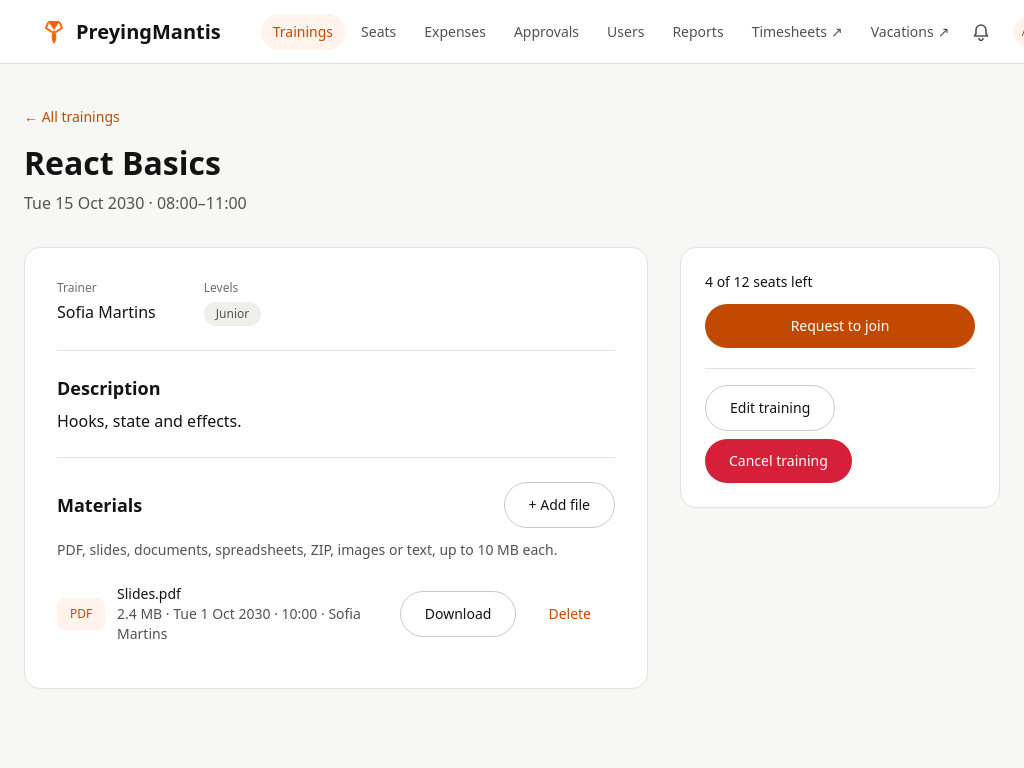
Test: training materials › lets an admin delete a file after confirming
The width and height of the screenshot is (1024, 768).
Click the button with aria-label "Delete Slides.pdf" at (570, 614), box [524,591,615,637]
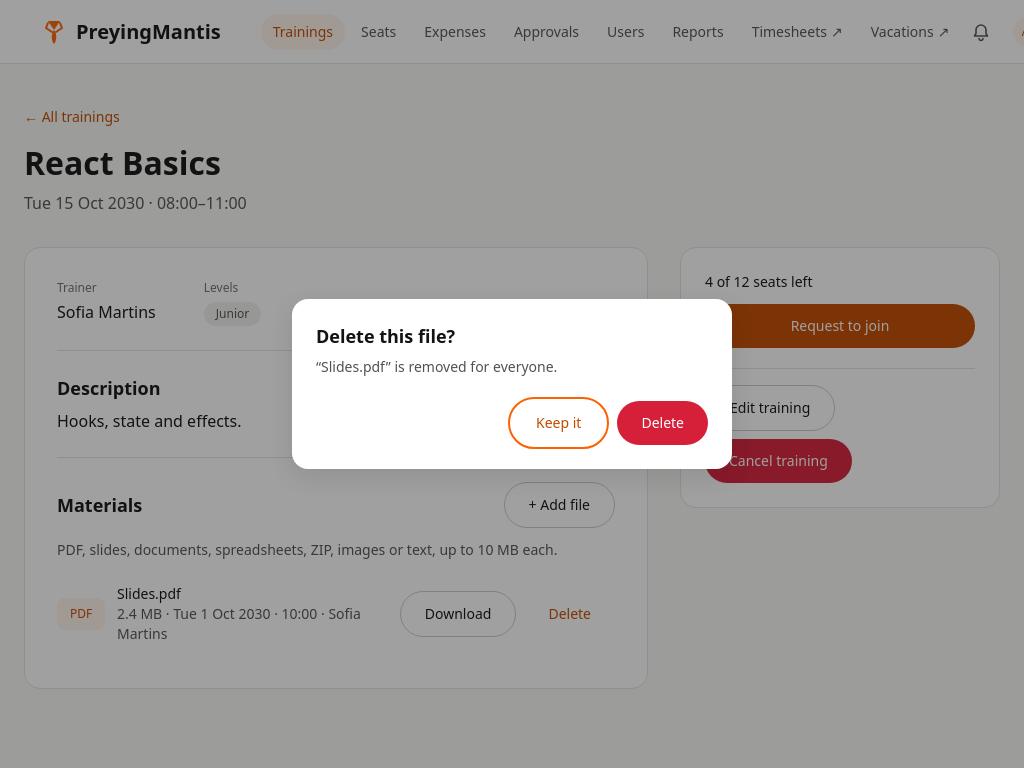
Click the button "Delete" at (663, 423), box [617,401,708,445]
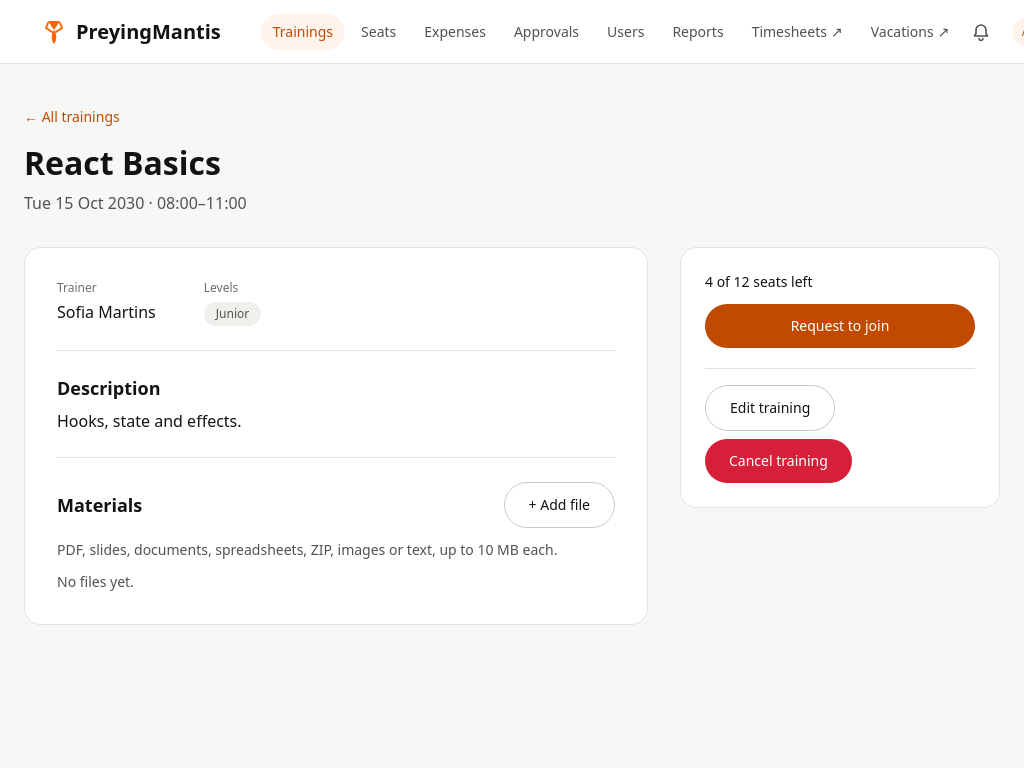
Now the text "No files yet." is shown, box [57,572,134,591]
